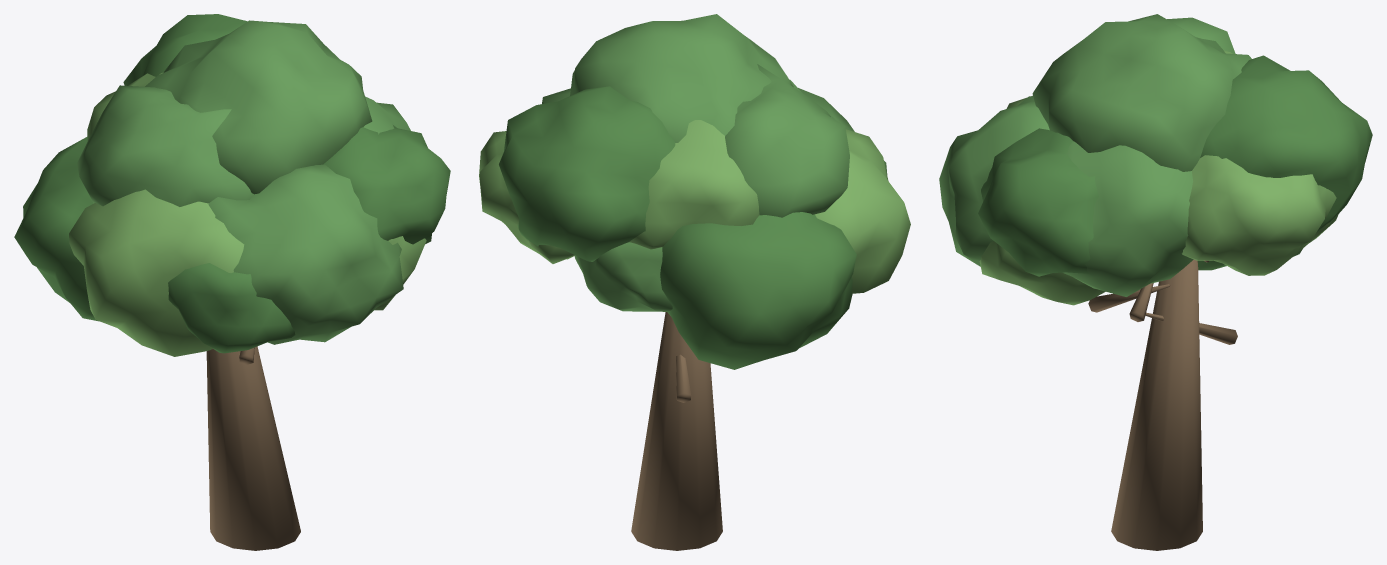
Rendered from tree_oak.glb.
3 views of the same model, side by side, from view 1: azimuth 30°, elevation 25°; view 2: azimuth 150°, elevation 25°; view 3: azimuth 270°, elevation 25° (orthographic).
Parts seen in each view (by area): view 1: Icosphere.001, Icosphere.010, Icosphere.008, Icosphere.007, Cone, Icosphere.012, Icosphere.006, Icosphere.009, Icosphere.003, Icosphere.013, Icosphere.011, Icosphere.005; view 2: Icosphere.006, Icosphere.003, Icosphere.001, Cone, Icosphere.007, Icosphere.005, Icosphere.008, Icosphere.004, Icosphere.002, Cone.001; view 3: Icosphere.001, Cone, Icosphere.003, Icosphere.013, Icosphere.012, Icosphere.002, Icosphere.010, Icosphere.011, Icosphere.007, Cone.002, Cone.001.
Part boxes in pixels (bbox=[...]): Icosphere.001: bbox=[144, 20, 372, 194]; Icosphere.010: bbox=[208, 164, 403, 344]; Icosphere.008: bbox=[69, 189, 244, 356]; Icosphere.007: bbox=[77, 85, 253, 206]; Cone: bbox=[206, 346, 300, 550]; Icosphere.012: bbox=[323, 125, 450, 244]; Icosphere.006: bbox=[14, 137, 98, 321]; Icosphere.009: bbox=[168, 263, 295, 353]; Icosphere.003: bbox=[123, 14, 247, 85]; Icosphere.013: bbox=[363, 96, 410, 134]; Icosphere.011: bbox=[374, 236, 426, 310]; Icosphere.005: bbox=[87, 72, 163, 140]; Icosphere.006: bbox=[660, 212, 856, 369]; Icosphere.003: bbox=[499, 86, 675, 261]; Icosphere.001: bbox=[570, 14, 793, 142]; Cone: bbox=[631, 312, 722, 550]; Icosphere.007: bbox=[725, 64, 849, 217]; Icosphere.005: bbox=[629, 120, 759, 249]; Icosphere.008: bbox=[815, 129, 910, 293]; Icosphere.004: bbox=[574, 242, 672, 311]; Icosphere.002: bbox=[479, 131, 575, 263]; Cone.001: bbox=[676, 354, 691, 402]; Icosphere.001: bbox=[1032, 14, 1251, 171]; Cone: bbox=[1111, 259, 1202, 550]; Icosphere.003: bbox=[1200, 55, 1372, 232]; Icosphere.013: bbox=[1063, 141, 1193, 296]; Icosphere.012: bbox=[978, 128, 1098, 276]; Icosphere.002: bbox=[1182, 155, 1338, 275]; Icosphere.010: bbox=[939, 96, 1049, 266]; Icosphere.011: bbox=[979, 241, 1105, 305]; Icosphere.007: bbox=[1167, 17, 1235, 53]; Cone.002: bbox=[1088, 284, 1170, 312]; Cone.001: bbox=[1145, 312, 1237, 344].
Size of the model in its own units: 5.84 by 8.18 by 6.37.
